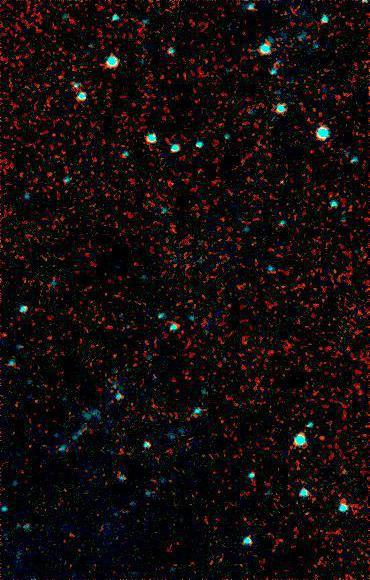star: (307, 424, 337, 454)
